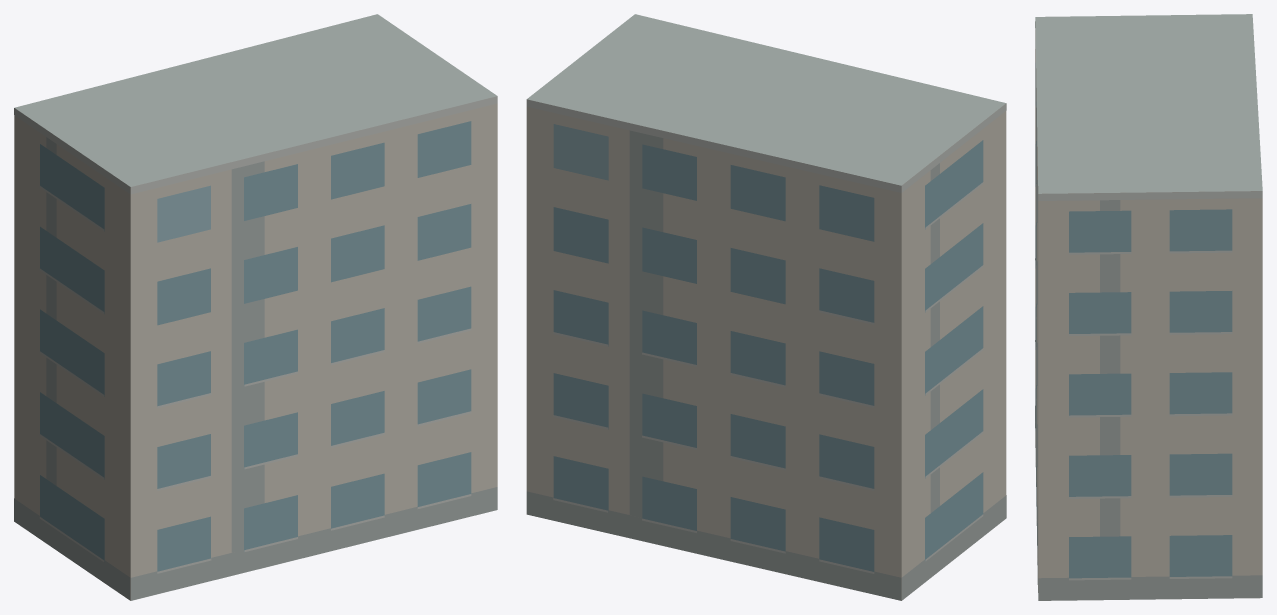
The model's file is survey-upis-32976974.glb.
3 views of the same model, side by side, from view 1: azimuth 30°, elevation 25°; view 2: azimuth 150°, elevation 25°; view 3: azimuth 270°, elevation 25° (orthographic).
Visible parts, largest first — view 1: survey-upis-32976974.tmp; view 2: survey-upis-32976974.tmp; view 3: survey-upis-32976974.tmp.
Boxes of the visible parts, x1=… form: survey-upis-32976974.tmp: x1=14, y1=14, x2=497, y2=600; survey-upis-32976974.tmp: x1=526, y1=14, x2=1006, y2=600; survey-upis-32976974.tmp: x1=1035, y1=14, x2=1262, y2=600.
Size of the model in its own units: 13.04 by 13.75 by 6.98.
